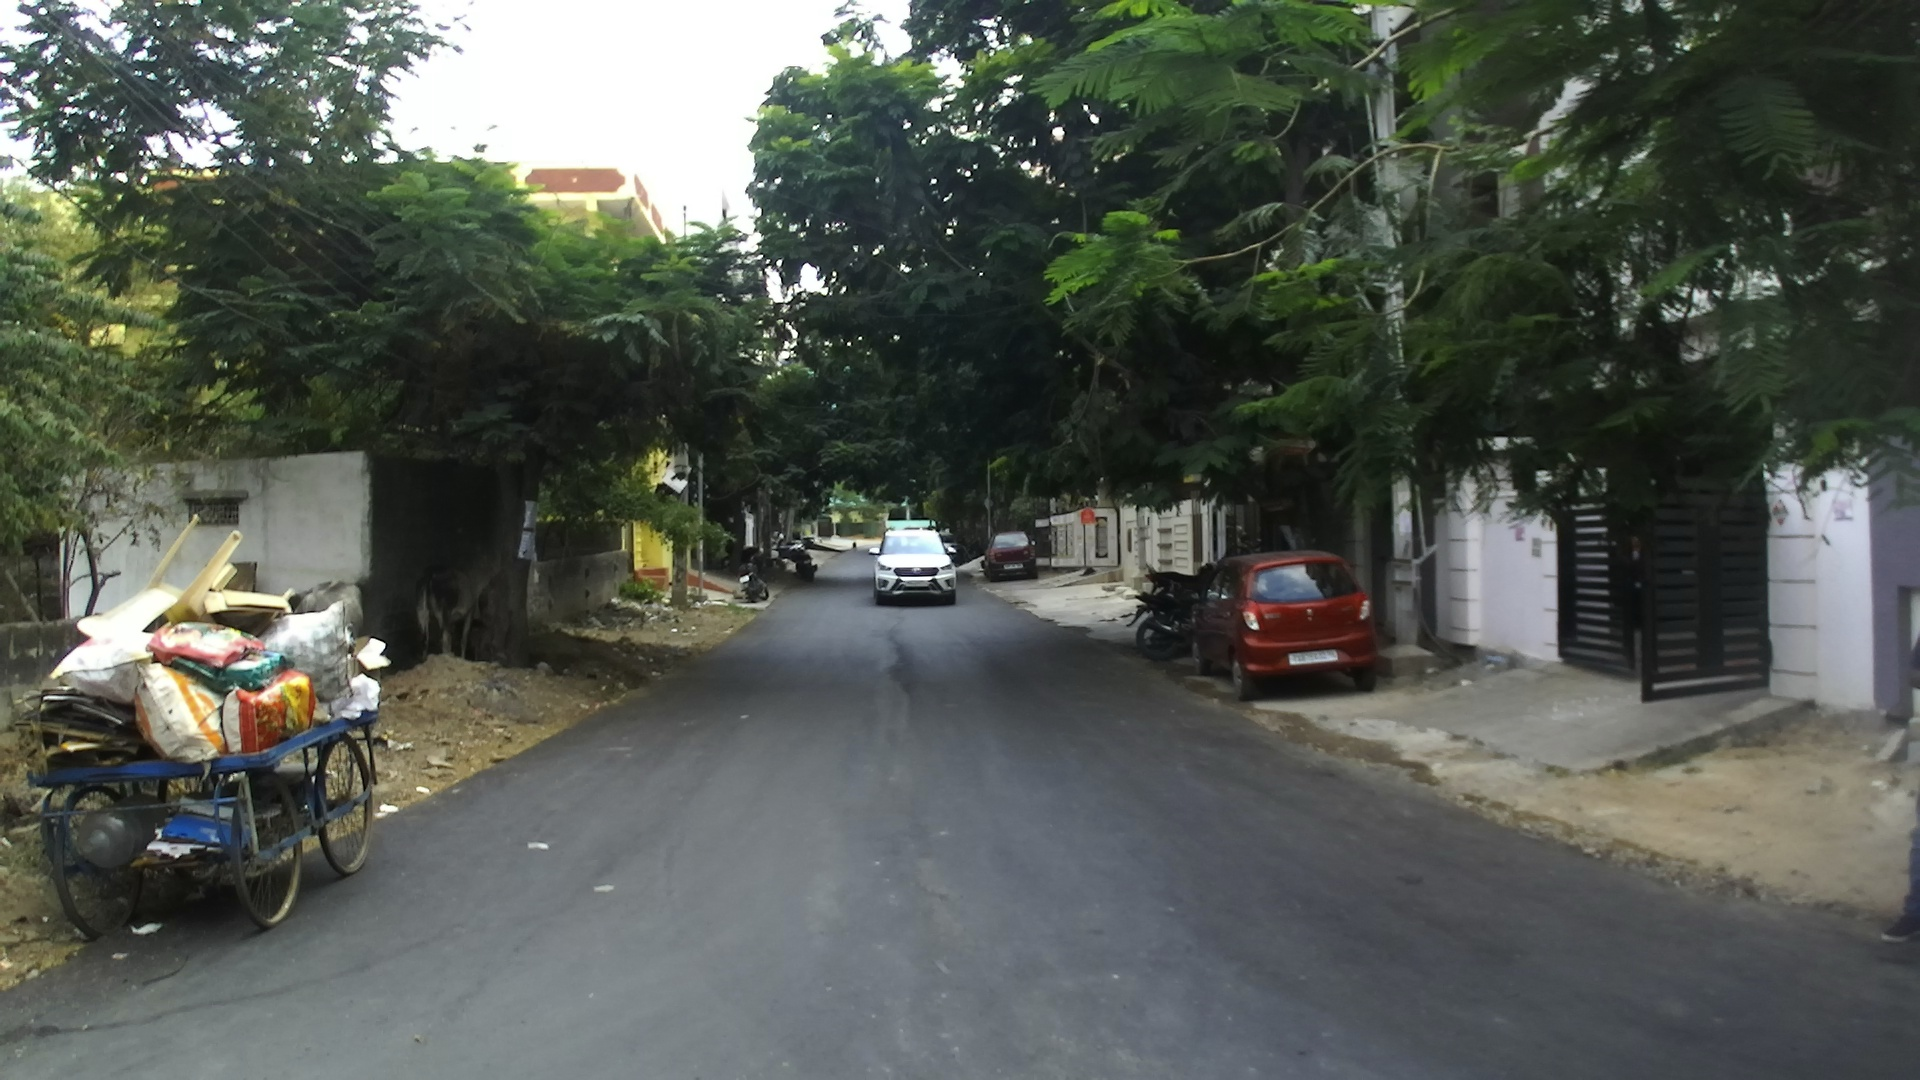vehicle: (26, 516, 392, 942), (1189, 549, 1379, 694), (870, 522, 959, 605), (1126, 564, 1204, 647), (984, 531, 1036, 580)
